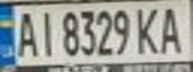2: (93, 6, 115, 56)
3: (78, 7, 96, 56)
8: (57, 7, 81, 57)
9: (112, 4, 136, 56)
A: (154, 2, 190, 55), (12, 7, 39, 58)
I: (33, 7, 57, 57)
K: (133, 3, 163, 55)
